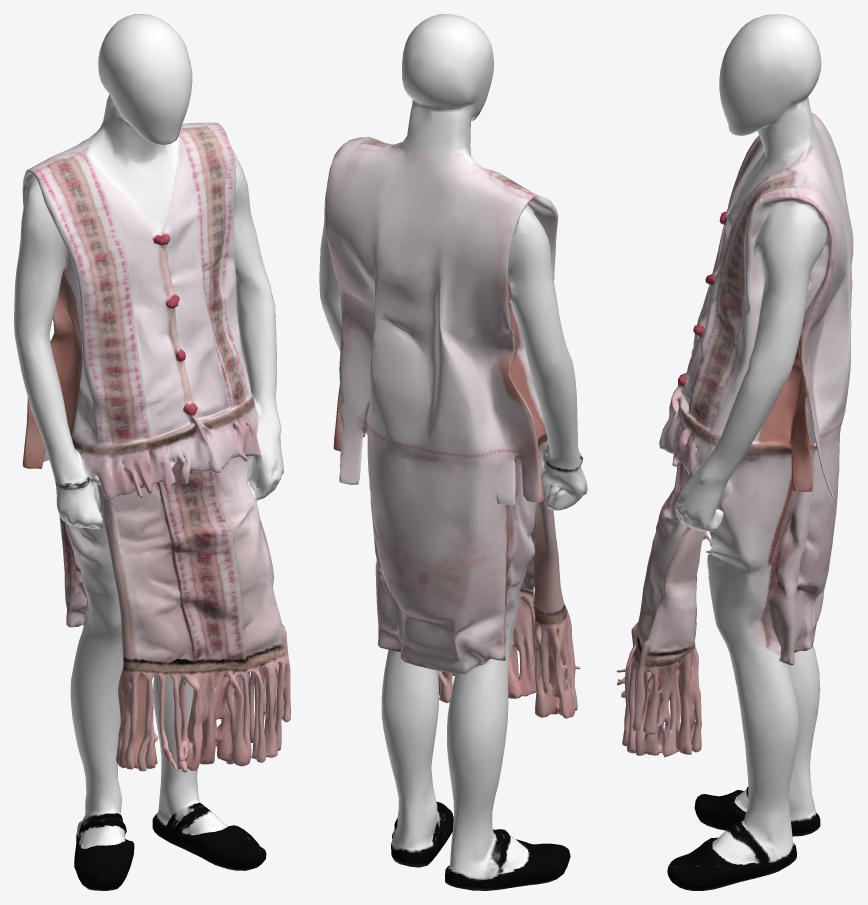
File: B_rau_nam_00001.glb
The picture shows the model from 3 angles, left to right: view 1: azimuth 30°, elevation 25°; view 2: azimuth 150°, elevation 25°; view 3: azimuth 270°, elevation 25°; orthographic projection. The views are drawn at different scales.
Bounding box in the file's own units: 0.2926 × 0.9619 × 0.2467.
Materials: 1 (1 with a texture image).
